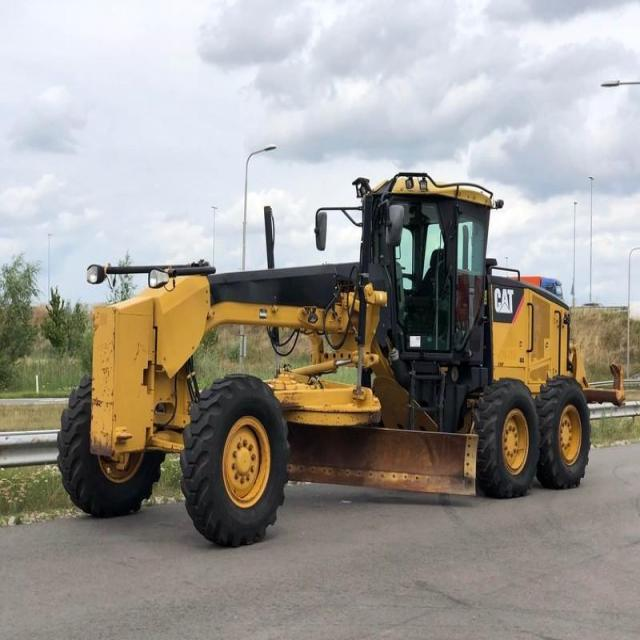Grader: (28, 163, 599, 550)
